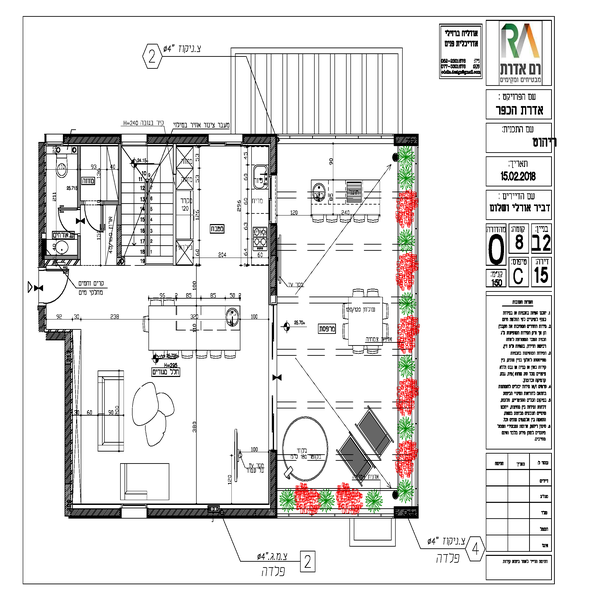door: (38, 266, 70, 304), (58, 202, 84, 234), (85, 200, 109, 234)
room: (62, 332, 278, 519), (114, 129, 277, 267), (38, 127, 124, 268)
wall: (64, 334, 75, 515), (36, 144, 50, 268), (150, 506, 276, 518), (265, 224, 279, 294), (151, 131, 209, 145), (64, 132, 120, 146), (67, 506, 123, 519), (269, 456, 279, 509), (242, 134, 274, 146), (44, 330, 70, 344)
window: (267, 173, 279, 220), (122, 130, 149, 146), (208, 134, 239, 147), (123, 507, 150, 519), (46, 134, 62, 153)
